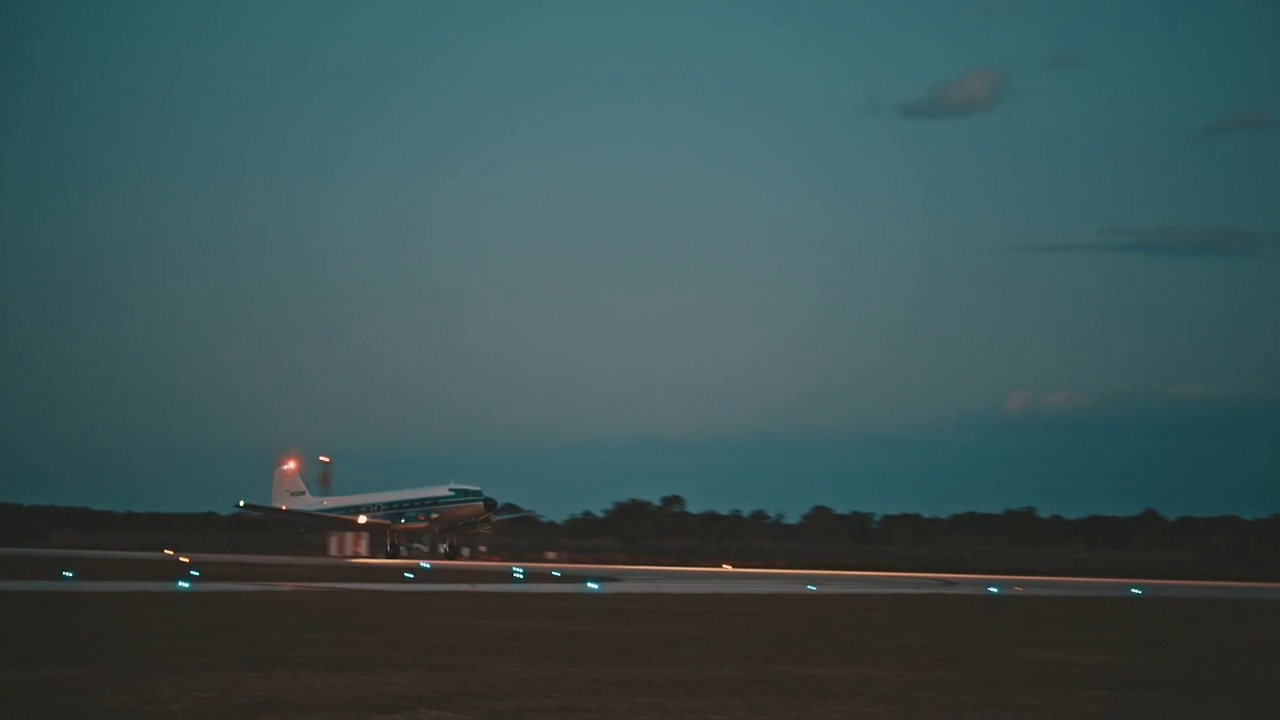plane: (234, 458, 534, 560)
